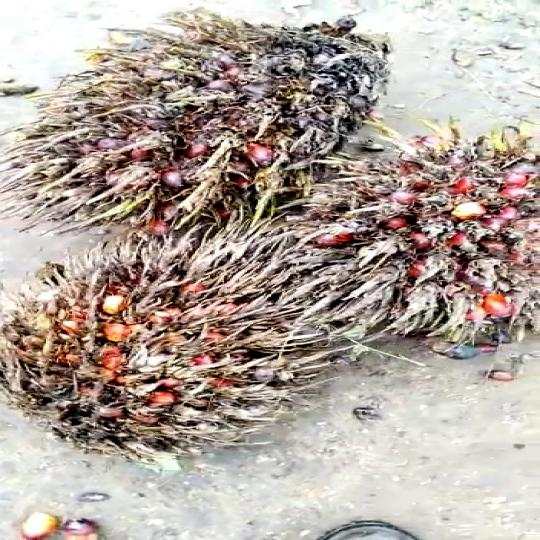terlalu masak: (0, 23, 398, 248), (0, 267, 337, 444)
